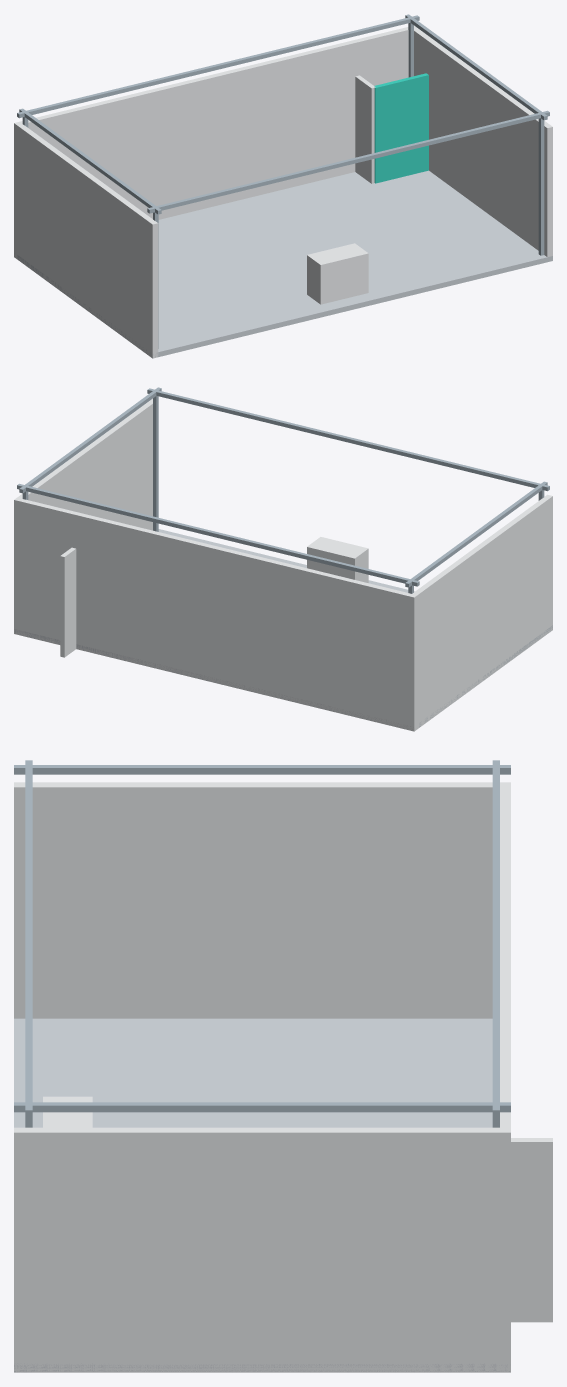
3 renders of one model, top to bottom at view 1: azimuth 30°, elevation 25°; view 2: azimuth 150°, elevation 25°; view 3: azimuth 270°, elevation 25°, orthographic. The views are drawn at different scales.
Parts seen in each view (by area): view 1: Exhibition Booth Concept; view 2: Exhibition Booth Concept; view 3: Exhibition Booth Concept.
Boxes of the visible parts, left/top/right/bottom form: Exhibition Booth Concept: left=14, top=14, right=552, bottom=358; Exhibition Booth Concept: left=14, top=387, right=552, bottom=731; Exhibition Booth Concept: left=14, top=760, right=552, bottom=1372.
Bounding box in the file's own units: 10 × 3.49 × 6.51.
